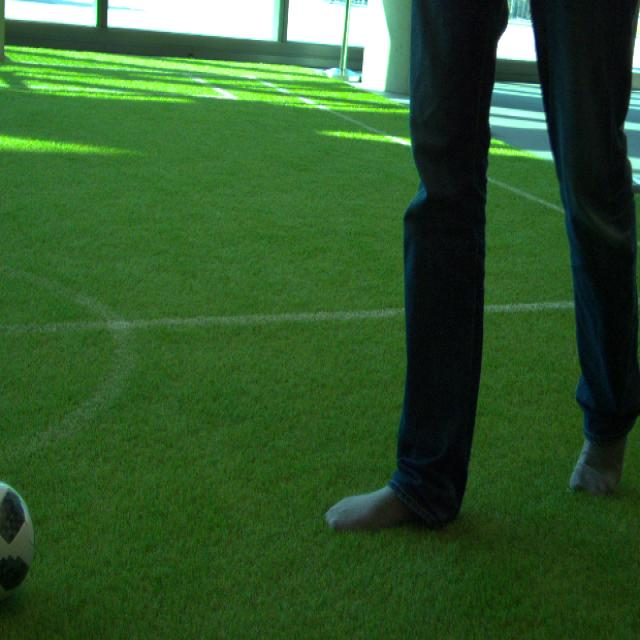ball: (0, 483, 37, 605)
